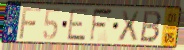5: (42, 7, 62, 41)
B: (139, 9, 163, 44)
E: (66, 8, 91, 42)
F: (88, 8, 114, 44), (18, 6, 43, 40)
X: (117, 10, 141, 43)
